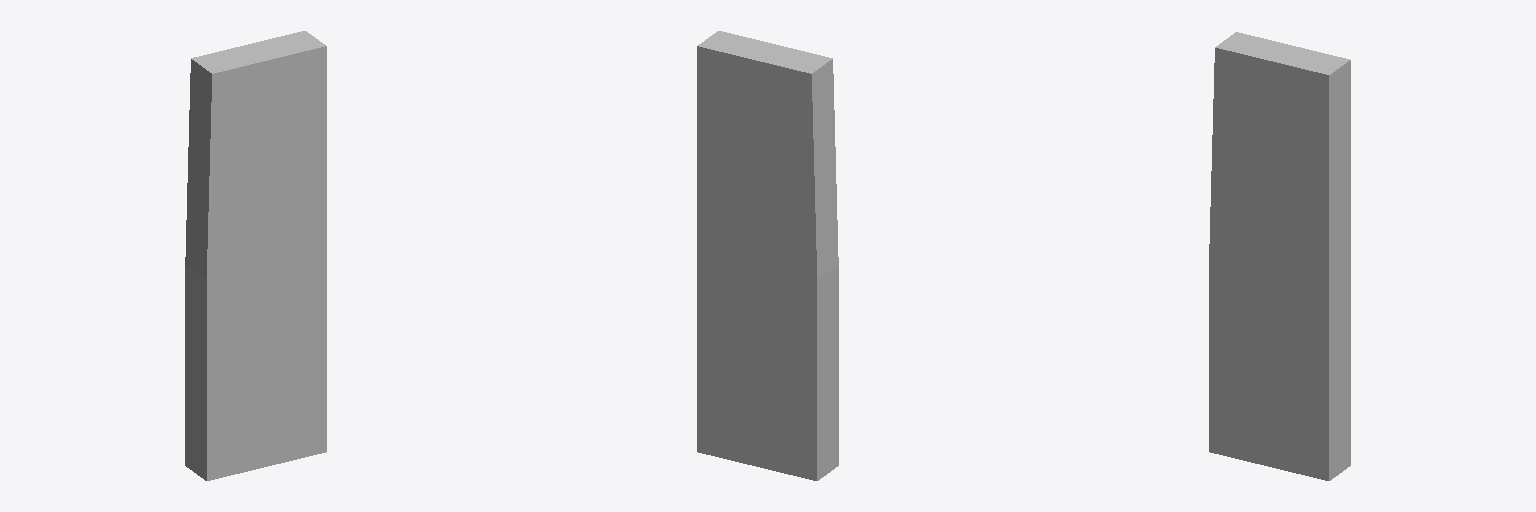
Rendered from Cart_pocket_collision_7.obj.
The picture shows the model from 3 angles: view 1: azimuth 30°, elevation 25°; view 2: azimuth 150°, elevation 25°; view 3: azimuth 330°, elevation 25°; orthographic projection.
Size of the model in its own units: 0.2148 by 0.6947 by 0.0663.